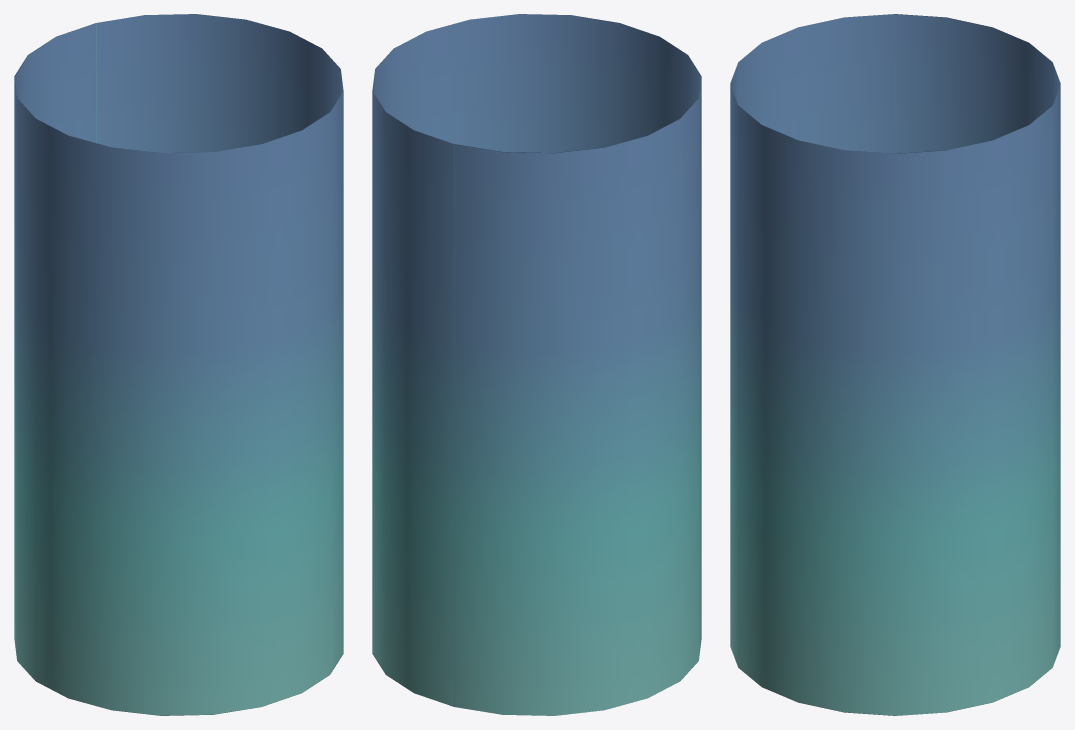
File: evolve_background_blue.fbx
The picture shows the model from 3 angles, left to right: view 1: azimuth 30°, elevation 25°; view 2: azimuth 150°, elevation 25°; view 3: azimuth 270°, elevation 25°; orthographic projection.
Parts seen in each view (by area): view 1: evolve_background_blue; view 2: evolve_background_blue; view 3: evolve_background_blue.
Boxes of the visible parts, x1=… form: evolve_background_blue: x1=14, y1=14, x2=343, y2=715; evolve_background_blue: x1=372, y1=14, x2=701, y2=715; evolve_background_blue: x1=730, y1=14, x2=1060, y2=715.
Bounding box in the file's own units: 18.12 × 34 × 18.12.
1 material, 1 textured.
